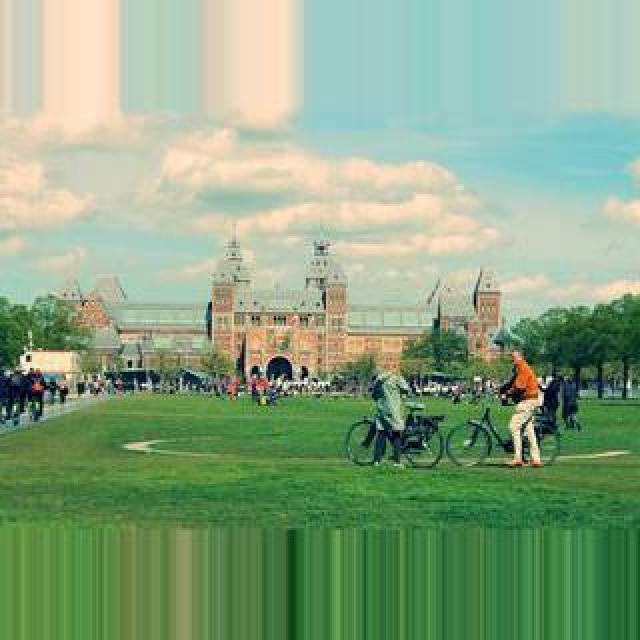MC-Bike: (498, 348, 544, 468), (370, 358, 412, 458)
Person: (448, 396, 564, 470), (346, 406, 444, 470)
